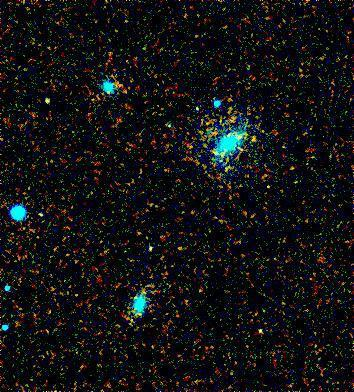star: (238, 125, 268, 155)
